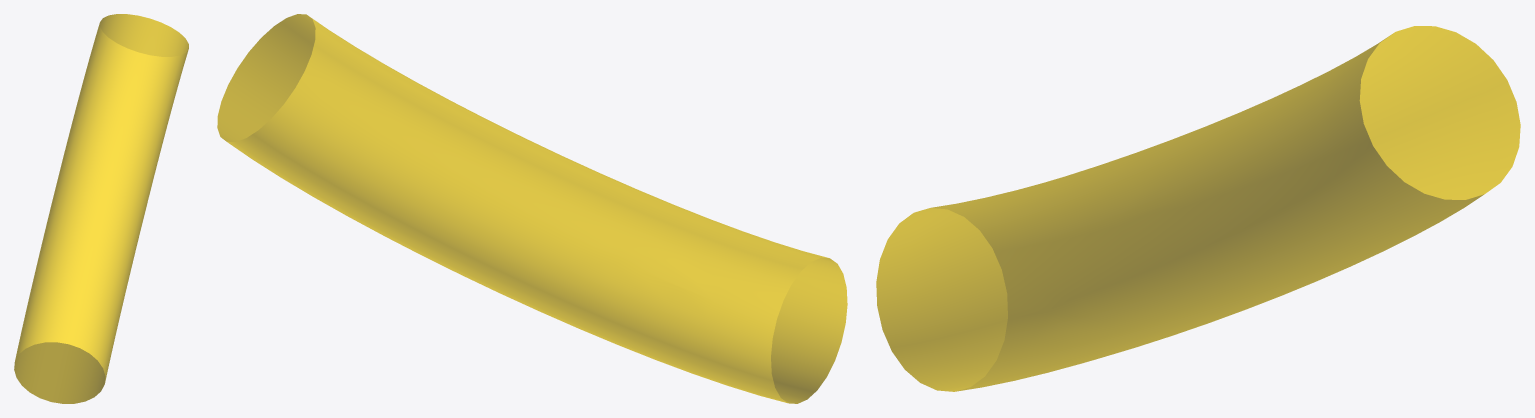
Rendered from Event_84804159_track_70.fbx.
3 renders of one model, left to right at view 1: azimuth 30°, elevation 25°; view 2: azimuth 150°, elevation 25°; view 3: azimuth 270°, elevation 25°, orthographic. The views are drawn at different scales.
Parts seen in each view (by area): view 1: Model; view 2: Model; view 3: Model.
Boxes of the visible parts, box(x1,y1,x2,y2) form: Model: box(14, 14, 188, 403); Model: box(217, 14, 847, 403); Model: box(876, 26, 1520, 391).
Bounding box in the file's own units: 0.1363 × 0.1266 × 0.1388.
